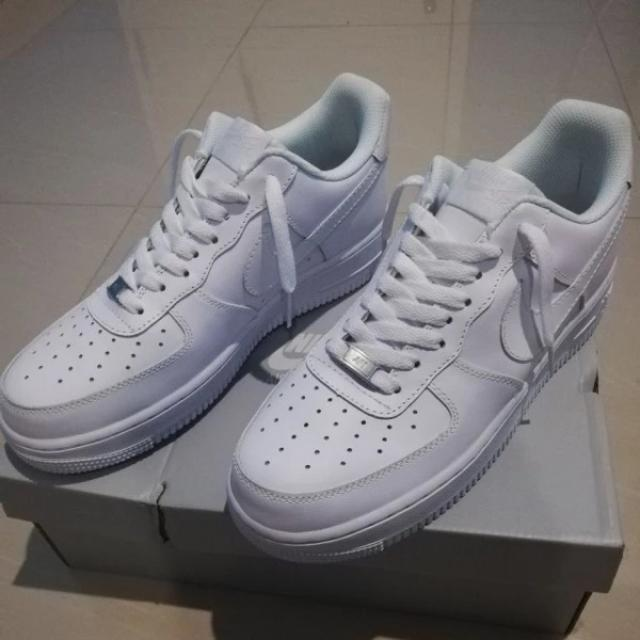nike original air force: (227, 99, 640, 566), (3, 69, 391, 478)
